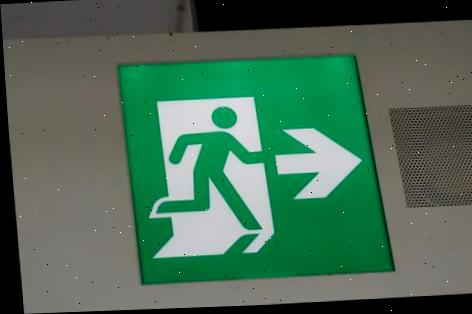emergency_exit: (116, 54, 396, 285)
